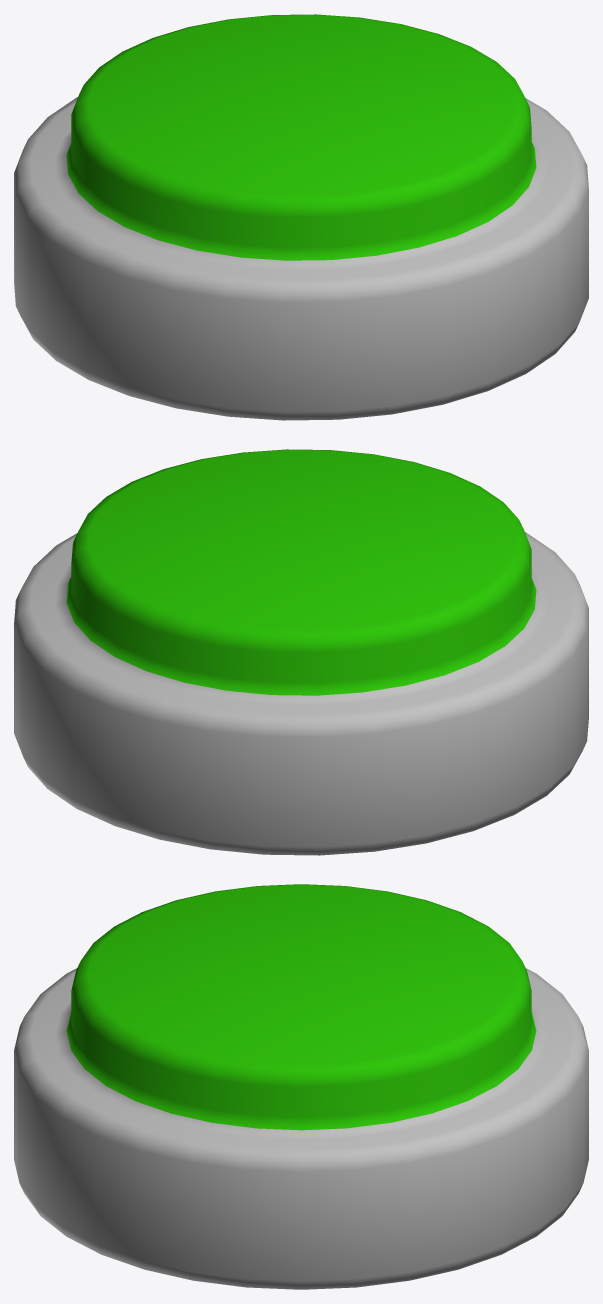
The model's file is greenBuzz.glb.
3 views of the same model, one above another, from view 1: azimuth 30°, elevation 25°; view 2: azimuth 150°, elevation 25°; view 3: azimuth 270°, elevation 25° (orthographic).
Parts seen in each view (by area): view 1: Cylinder.001; view 2: Cylinder.001; view 3: Cylinder.001.
Boxes of the visible parts, left/top/right/bottom form: Cylinder.001: left=14, top=14, right=588, bottom=420; Cylinder.001: left=14, top=449, right=588, bottom=855; Cylinder.001: left=14, top=884, right=588, bottom=1289.
Bounding box in the file's own units: 0.172 × 0.066 × 0.172.
